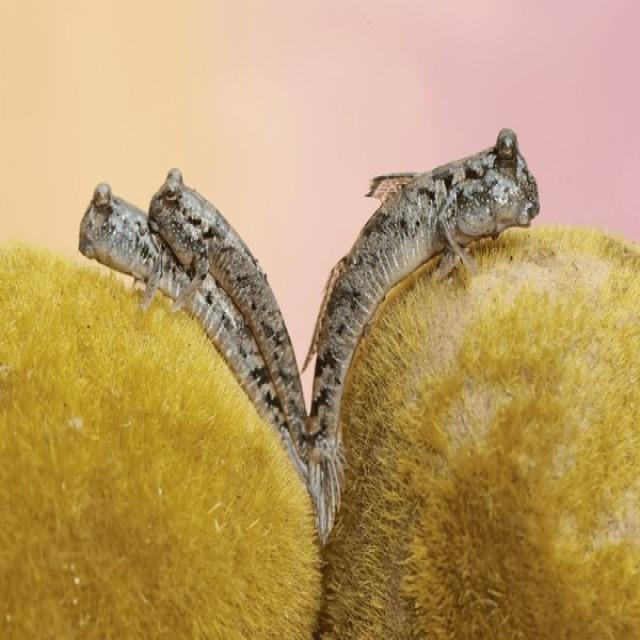Mudskipper: (300, 125, 540, 546), (145, 165, 310, 462)
